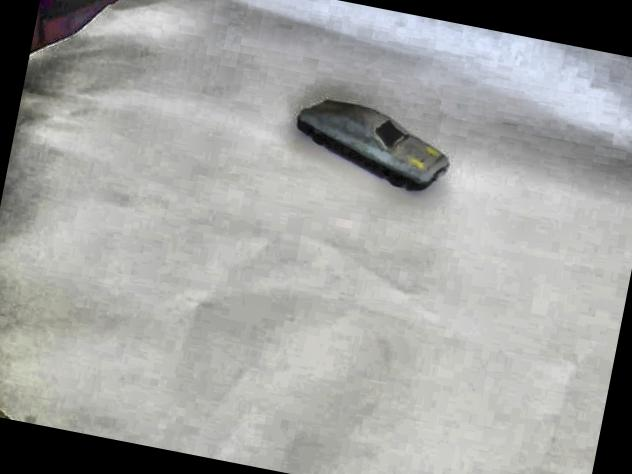normal_car: (274, 84, 460, 204)
